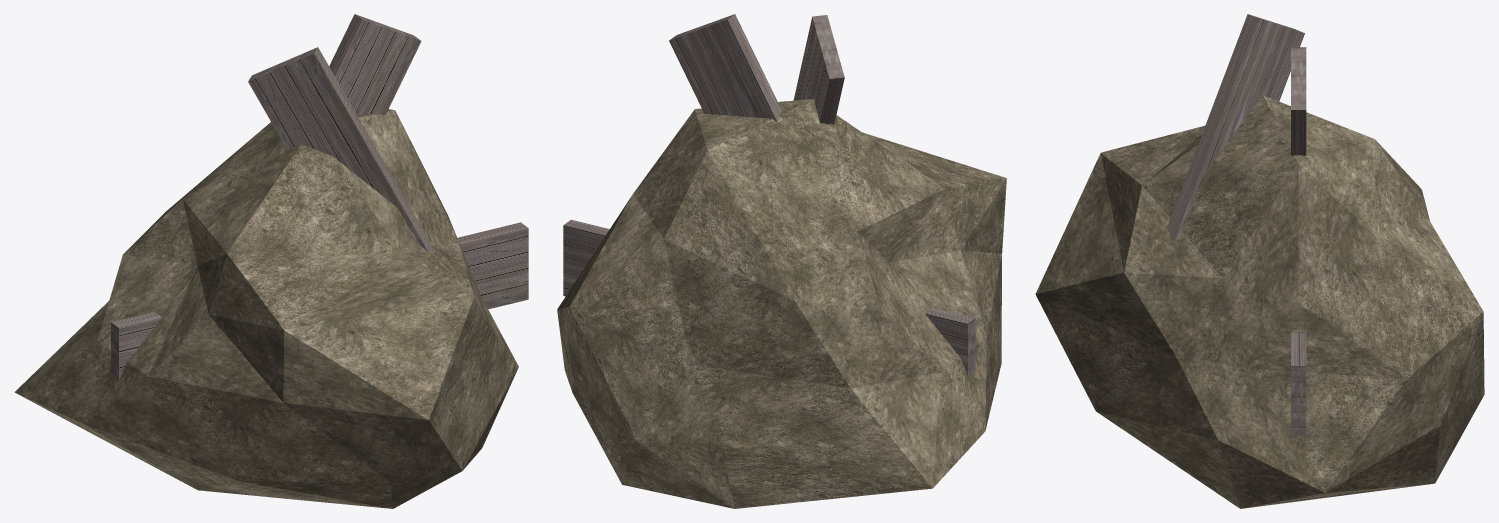
File: Rubble.glb
The picture shows the model from 3 angles, left to right: view 1: azimuth 30°, elevation 25°; view 2: azimuth 150°, elevation 25°; view 3: azimuth 270°, elevation 25°; orthographic projection. The views are drawn at different scales.
Visible parts, largest first — view 1: Icosphere, Cube.001, Cube.002, Cube; view 2: Icosphere, Cube, Cube.002, Cube.001; view 3: Icosphere, Cube.001, Cube, Cube.002.
Part boxes in pixels (x1,y1,x2,y2): Icosphere: (14, 109, 518, 508); Cube.001: (248, 47, 436, 252); Cube.002: (111, 222, 528, 380); Cube: (329, 14, 421, 115); Icosphere: (557, 99, 1006, 508); Cube: (669, 14, 782, 122); Cube.002: (563, 219, 975, 375); Cube.001: (793, 15, 844, 124); Icosphere: (1035, 95, 1484, 508); Cube.001: (1166, 14, 1304, 239); Cube: (1291, 47, 1306, 155); Cube.002: (1291, 332, 1306, 435).
Bounding box in the file's own units: 3.22 × 3.02 × 2.95.
2 materials, 2 textured.
